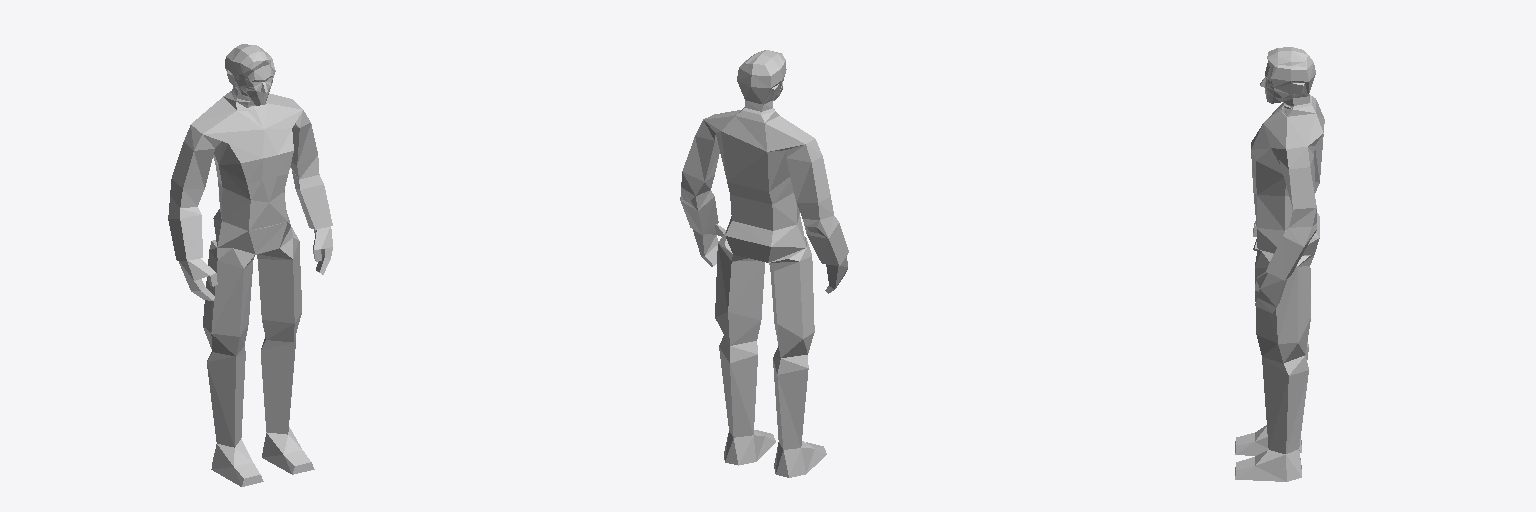
Rendered from Manuel80.obj.
3 renders of one model, left to right at view 1: azimuth 30°, elevation 25°; view 2: azimuth 150°, elevation 25°; view 3: azimuth 270°, elevation 25°, orthographic.
Visible parts, largest first — view 1: leon; view 2: leon; view 3: leon.
Part boxes in pixels (x1,y1,x2,y2): leon: (168, 44, 332, 486); leon: (680, 50, 848, 477); leon: (1235, 47, 1324, 481).
Size of the model in its own units: 4.68 by 12.19 by 2.4.